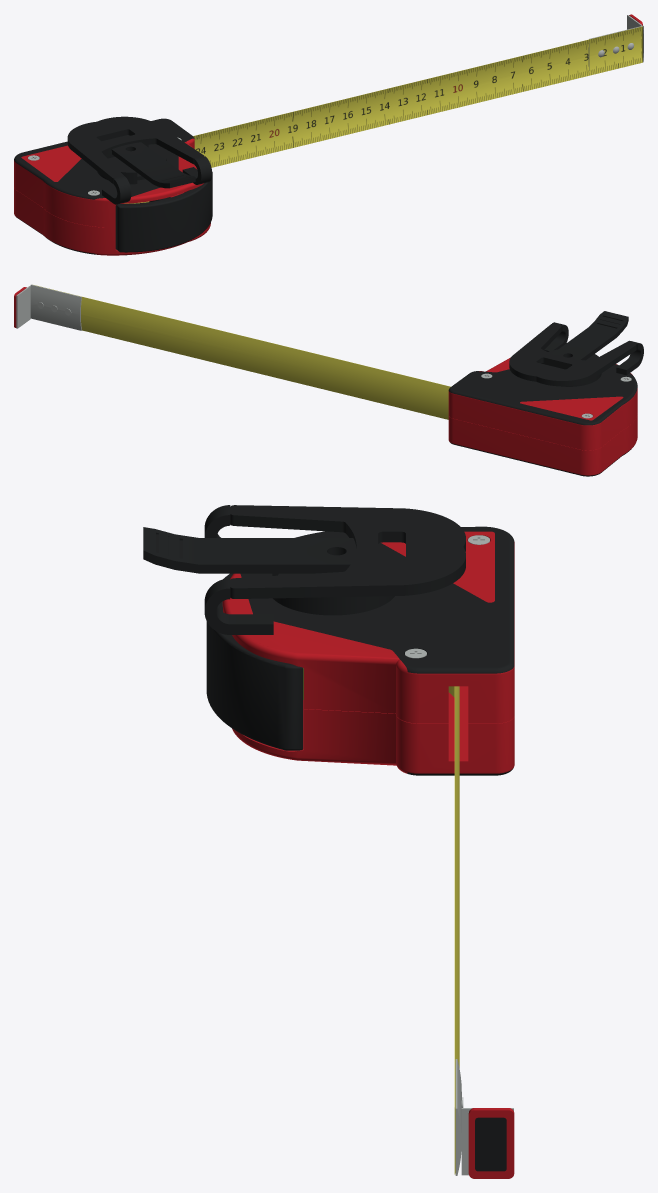
File: hultafors_bt5m_quarter_metre.glb
3 renders of one model, top to bottom at view 1: azimuth 30°, elevation 25°; view 2: azimuth 150°, elevation 25°; view 3: azimuth 270°, elevation 25°, orthographic. The views are drawn at different scales.
Parts seen in each view (by area): view 1: continuous_steel_blade, belt_clip_and_release_tongue, rear_abs_shell, thumb_brake, front_abs_shell, rear_rubber_impact_domain, blade_graduations_0_text; view 2: continuous_steel_blade, rear_abs_shell, belt_clip_and_release_tongue, rear_rubber_impact_domain, front_abs_shell, sliding_steel_end_hook; view 3: belt_clip_and_release_tongue, rear_abs_shell, rear_rubber_impact_domain, front_abs_shell, thumb_brake, continuous_steel_blade, end_hook_black_impact_pad, end_hook_rubber_face, sliding_steel_end_hook.
Boxes of the visible parts, x1=… form: continuous_steel_blade: x1=124, y1=26, x2=642, y2=203; belt_clip_and_release_tongue: x1=67, y1=116, x2=212, y2=204; rear_abs_shell: x1=14, y1=138, x2=203, y2=227; thumb_brake: x1=115, y1=172, x2=212, y2=252; front_abs_shell: x1=14, y1=187, x2=210, y2=255; rear_rubber_impact_domain: x1=14, y1=118, x2=194, y2=199; blade_graduations_0_text: x1=194, y1=27, x2=642, y2=166; continuous_steel_blade: x1=34, y1=285, x2=450, y2=419; rear_abs_shell: x1=448, y1=357, x2=637, y2=450; belt_clip_and_release_tongue: x1=509, y1=311, x2=643, y2=386; rear_rubber_impact_domain: x1=448, y1=364, x2=637, y2=425; front_abs_shell: x1=448, y1=414, x2=637, y2=475; sliding_steel_end_hook: x1=16, y1=284, x2=81, y2=330; belt_clip_and_release_tongue: x1=143, y1=505, x2=465, y2=634; rear_abs_shell: x1=222, y1=531, x2=514, y2=723; rear_rubber_impact_domain: x1=240, y1=526, x2=514, y2=673; front_abs_shell: x1=232, y1=686, x2=514, y2=773; thumb_brake: x1=206, y1=573, x2=303, y2=750; continuous_steel_blade: x1=303, y1=668, x2=459, y2=1174; end_hook_black_impact_pad: x1=475, y1=1117, x2=506, y2=1171; end_hook_rubber_face: x1=468, y1=1108, x2=514, y2=1178; sliding_steel_end_hook: x1=455, y1=1059, x2=513, y2=1175.
Bounding box in the file's own units: 0.3391 × 0.0453 × 0.094.
9 materials, 2 textured.
